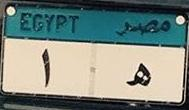1: (39, 49, 54, 88)
haa: (122, 60, 154, 90)
